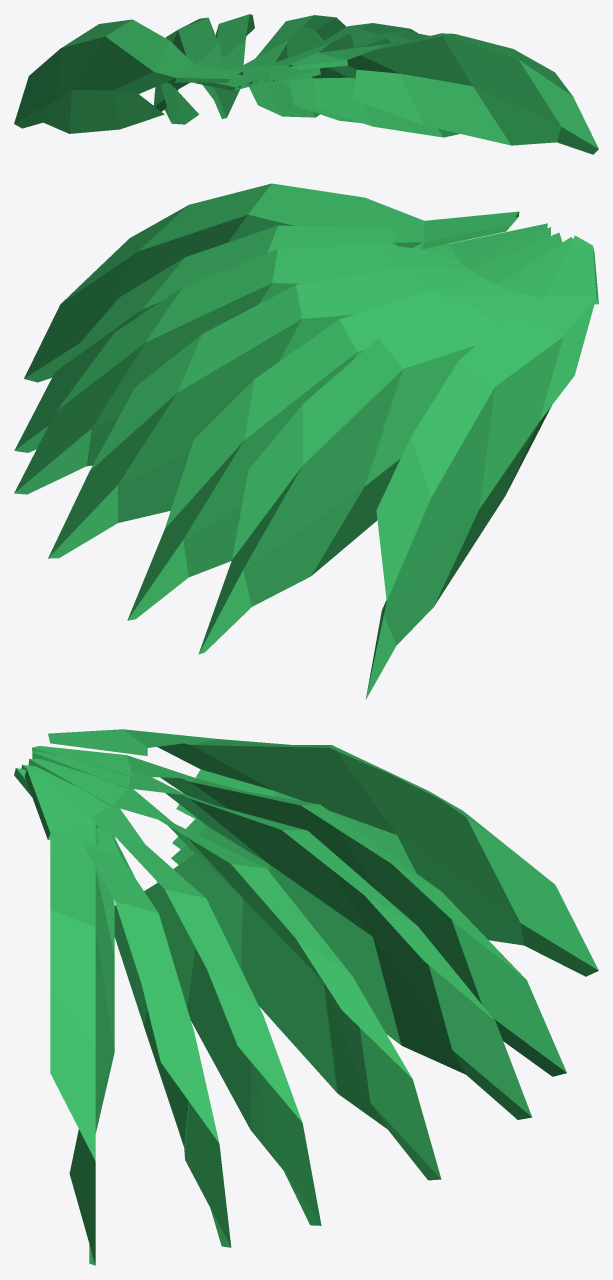
File: (Leaves2).fbx
3 views of the same model, one above another, from view 1: azimuth 30°, elevation 25°; view 2: azimuth 150°, elevation 25°; view 3: azimuth 270°, elevation 25° (orthographic). The views are drawn at different scales.
Parts seen in each view (by area): view 1: Lemon.013; view 2: Lemon.013; view 3: Lemon.013.
Part boxes in pixels (bbox=[...]): Lemon.013: bbox=[14, 14, 598, 154]; Lemon.013: bbox=[14, 183, 598, 699]; Lemon.013: bbox=[14, 729, 598, 1265].
Bounding box in the file's own units: 0.1299 × 0.0555 × 0.106.
